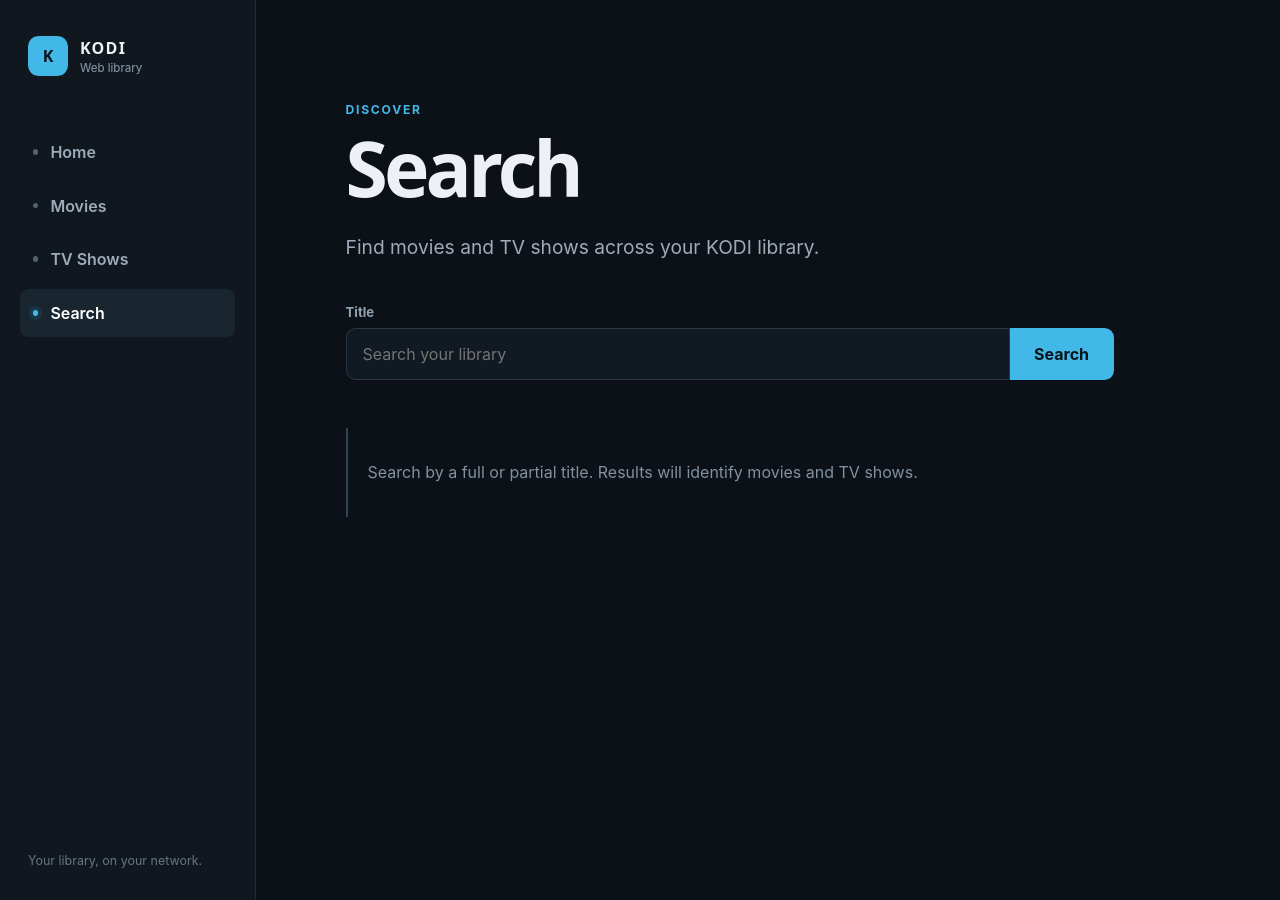
Scenario: search page › starts with guidance and validates an empty query
Expected: the text "Search by a full or partial title" is shown, [368,462,918,482]
Click the button "Search" at (1062, 354), box [1010,328,1114,380]
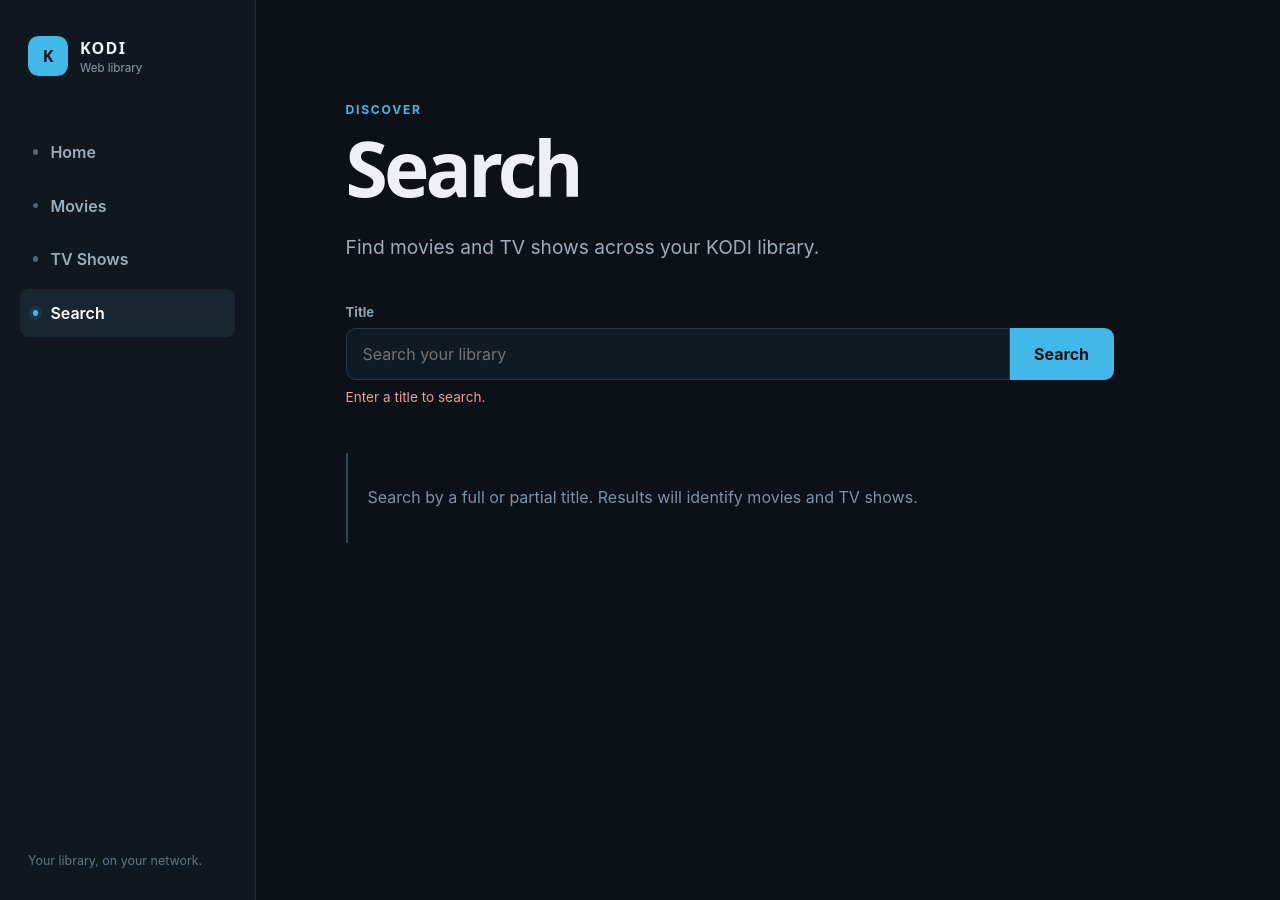
Expected: the message shows "Enter a title", [346,389,485,405]
